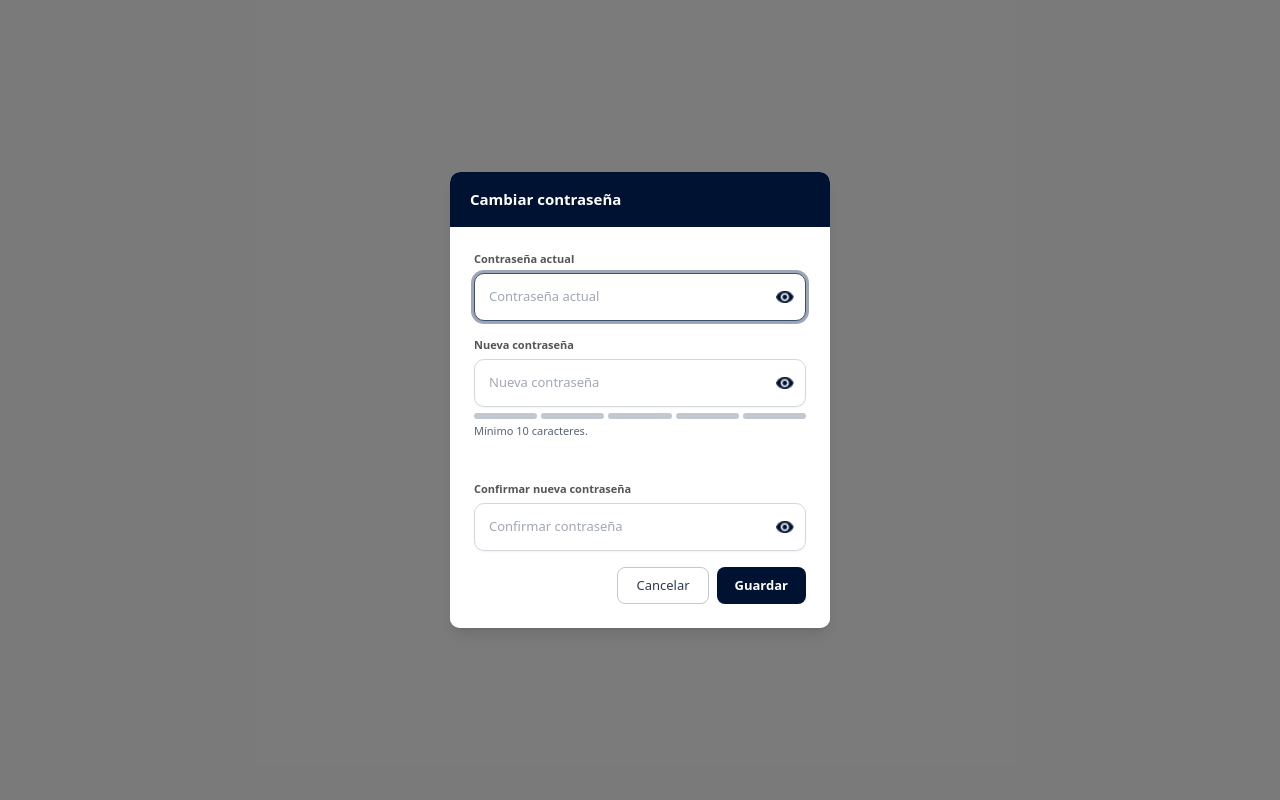
CambiarPasswordDialog: guardado › un nuevo intento limpia el error anterior antes de validar
The width and height of the screenshot is (1280, 800).
Step 1. Type "mala1234" into the password field labelled "Contraseña actual" → coordinates (640, 297), box [474,273,806,320]
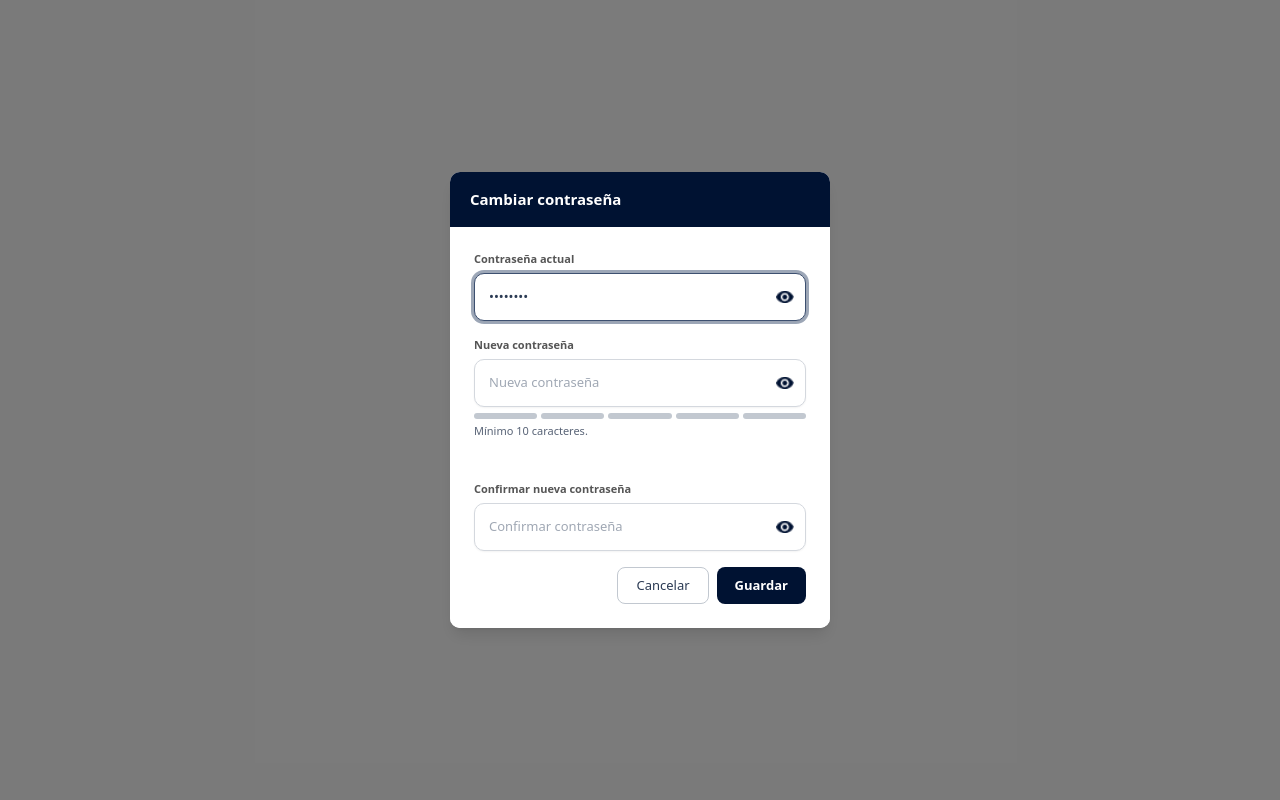
Step 2. Type "nueva-larga-123" into the password field labelled "Nueva contraseña" → coordinates (640, 383), box [474,359,806,406]
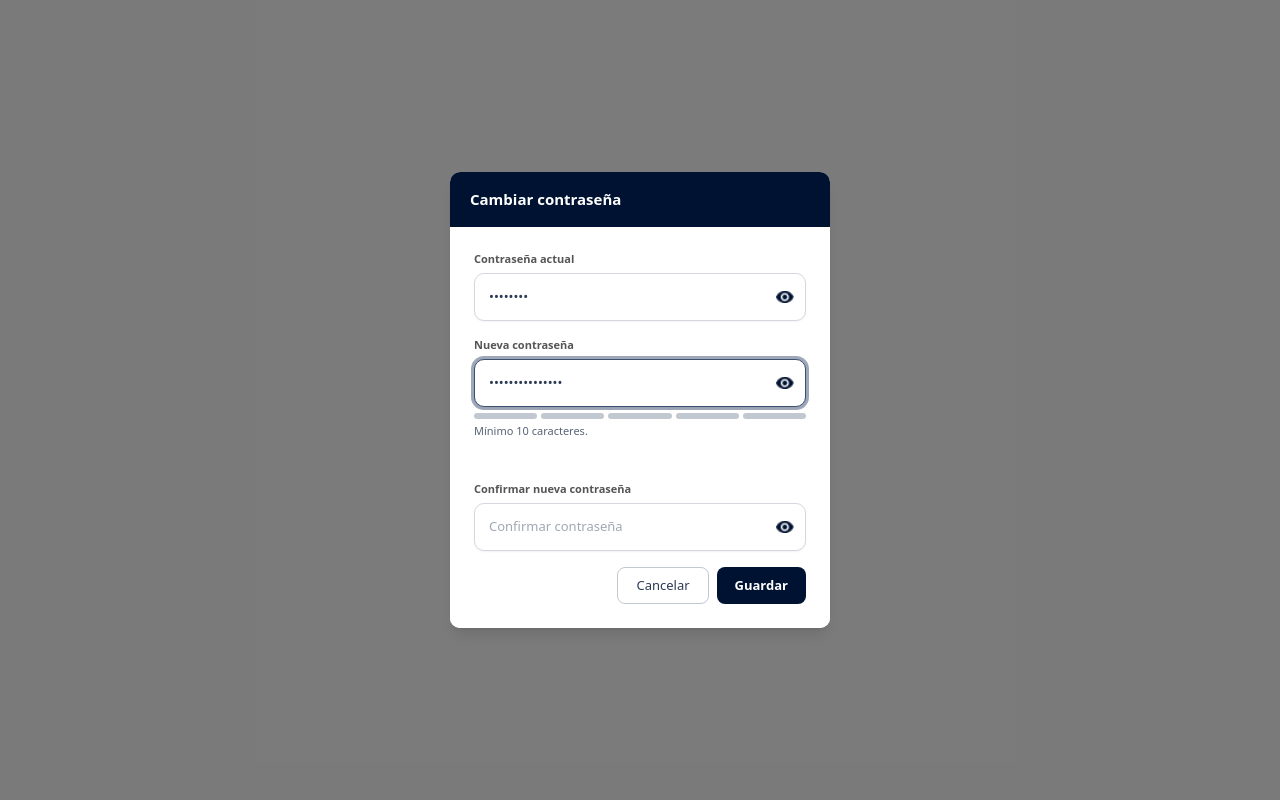
Step 3. Type "nueva-larga-123" into the password field named "Confirmar nueva contraseña" → coordinates (640, 527), box [474,503,806,550]
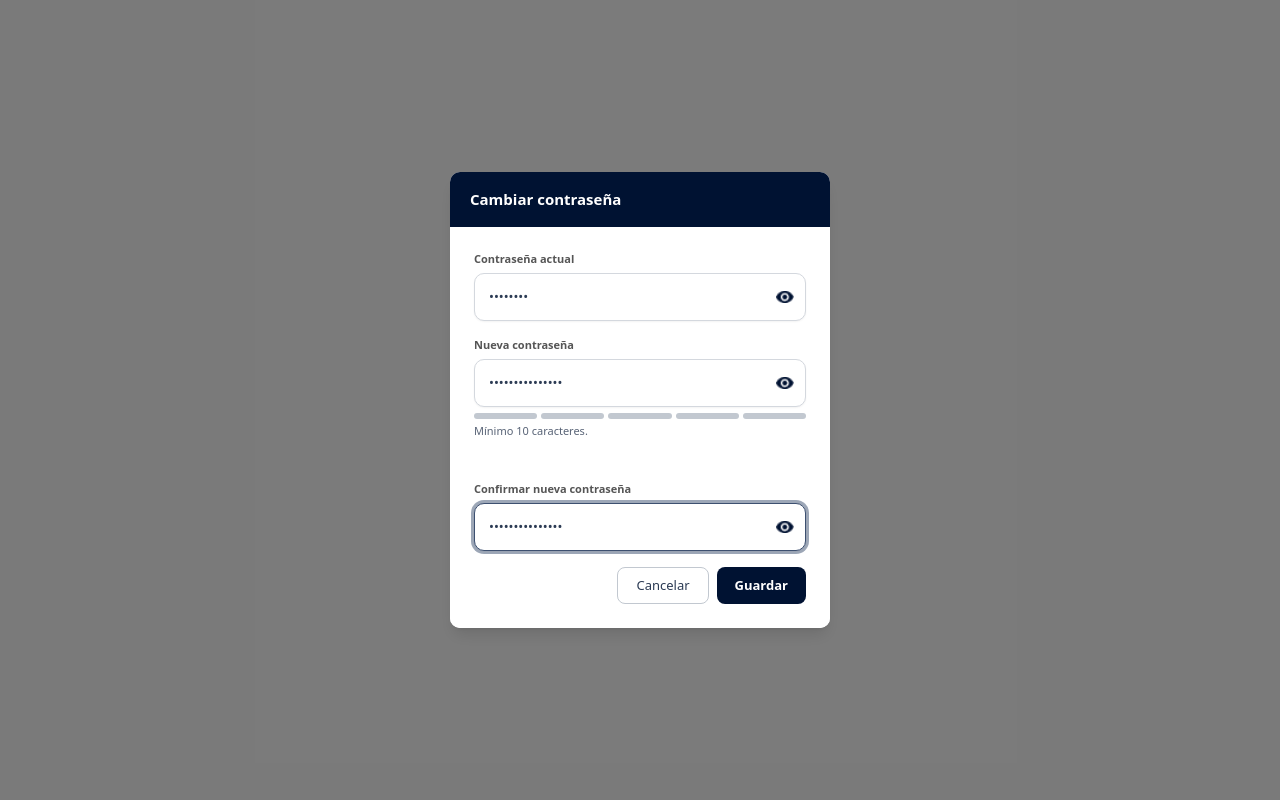
Step 4. Click the button "Guardar" → coordinates (761, 585), box [717,566,806,604]
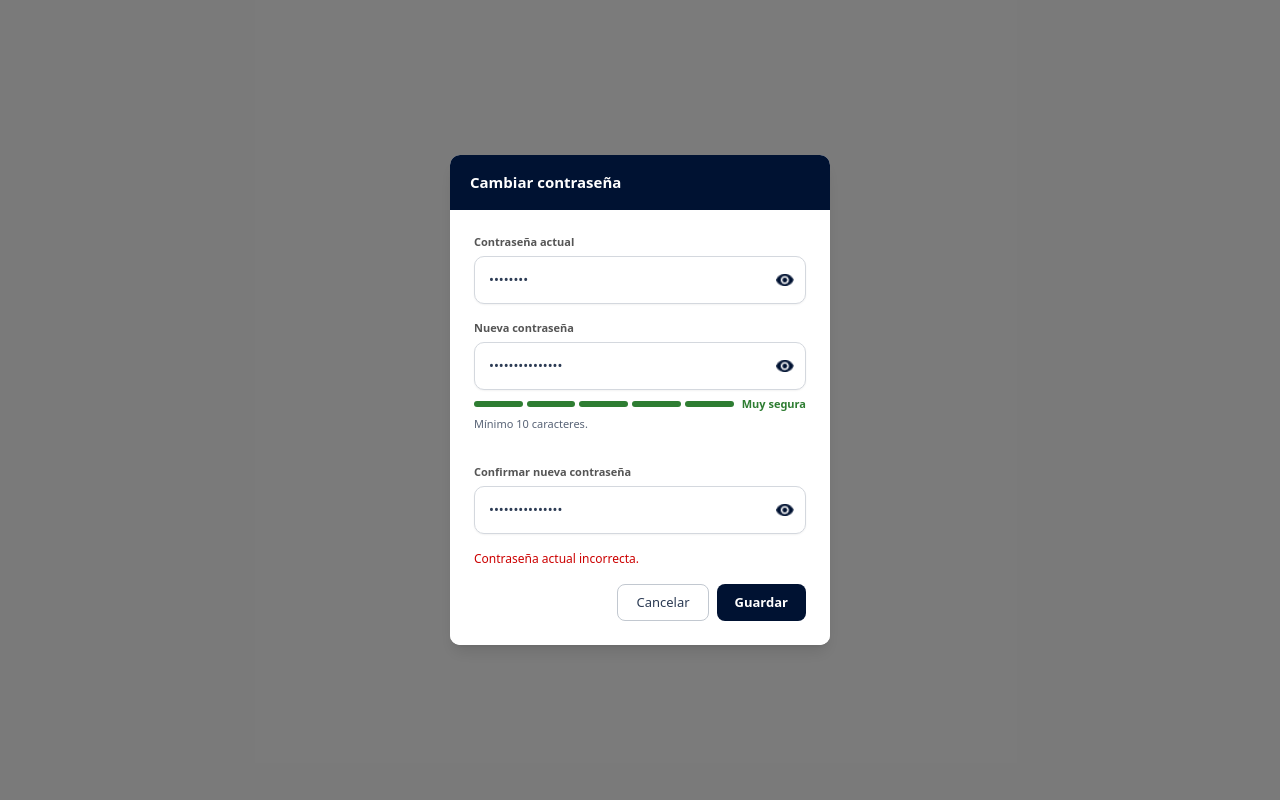
Result: the text "Contraseña actual incorrecta." is shown at [474,550,639,566]
Step 5. Clear the password field named "Confirmar nueva contraseña" → coordinates (640, 510), box [474,486,806,534]
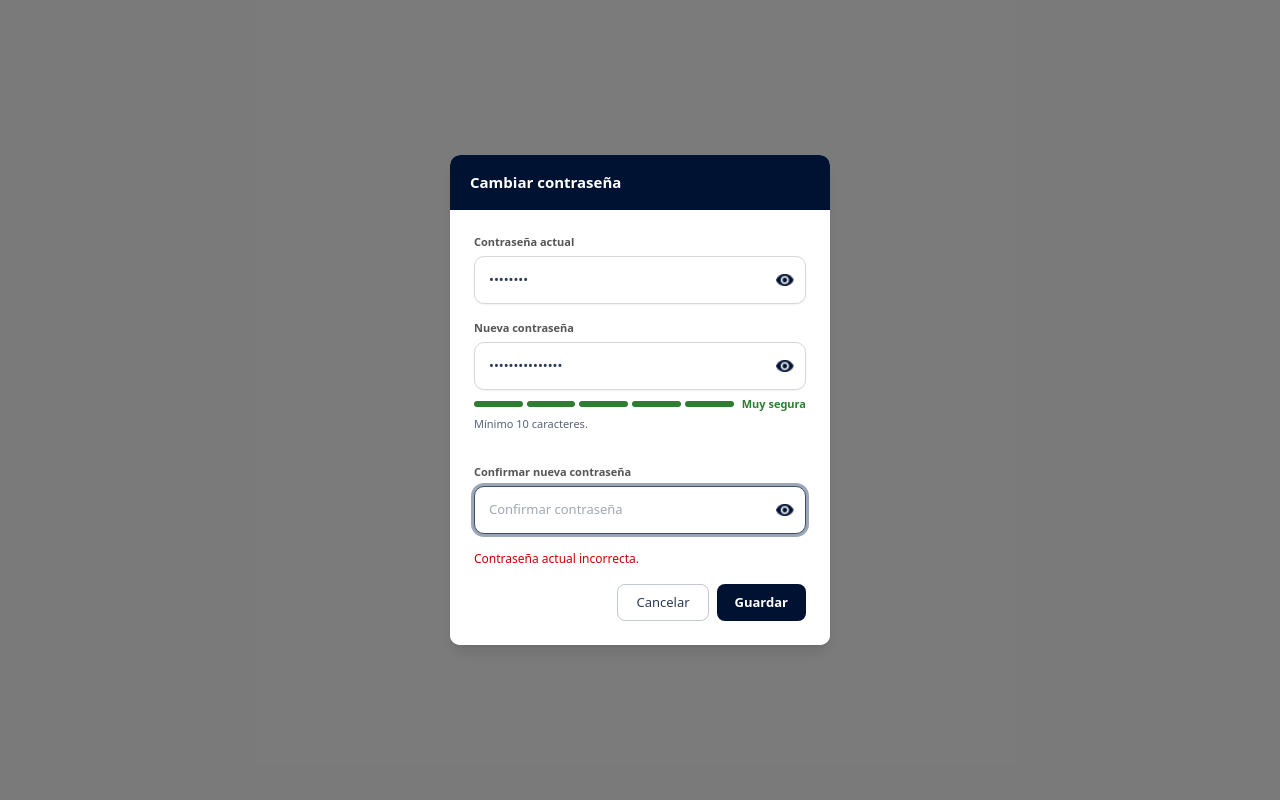
Step 6. Click the button "Guardar" → coordinates (761, 602), box [717,584,806,621]
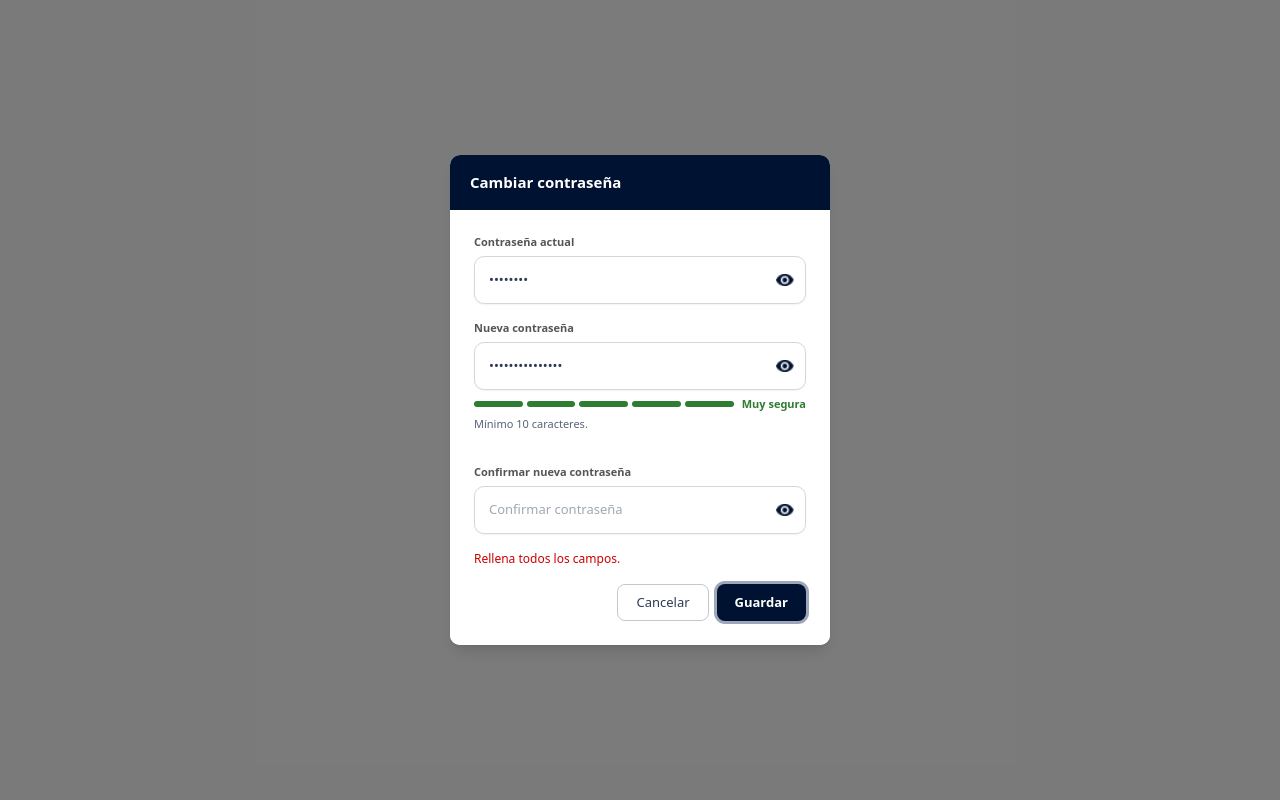
Result: the message reads "Rellena todos los campos." at [474,550,620,566]
Result: the text "Contraseña actual incorrecta." is gone
